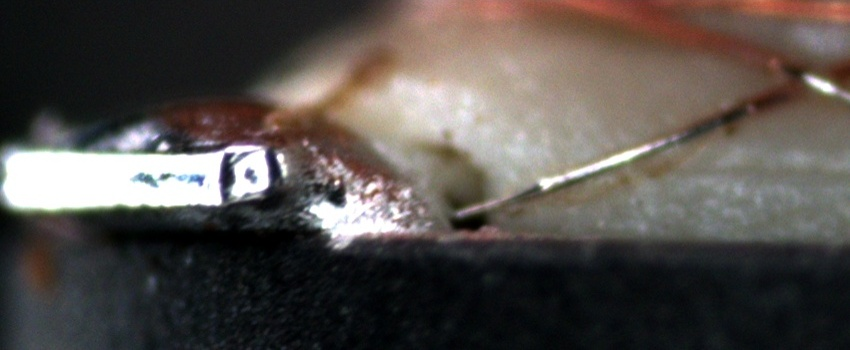DL: (623, 142, 850, 206)
TS: (452, 98, 751, 221)
TTCW: (452, 81, 792, 224)
